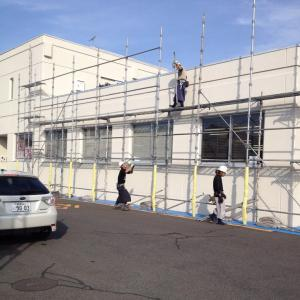white: (217, 166, 229, 179), (172, 60, 182, 71), (118, 161, 128, 171)
